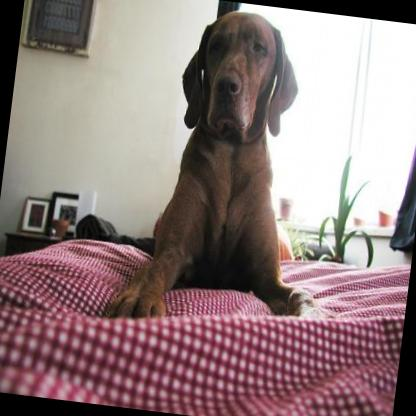vizsla: (99, 0, 362, 346)
